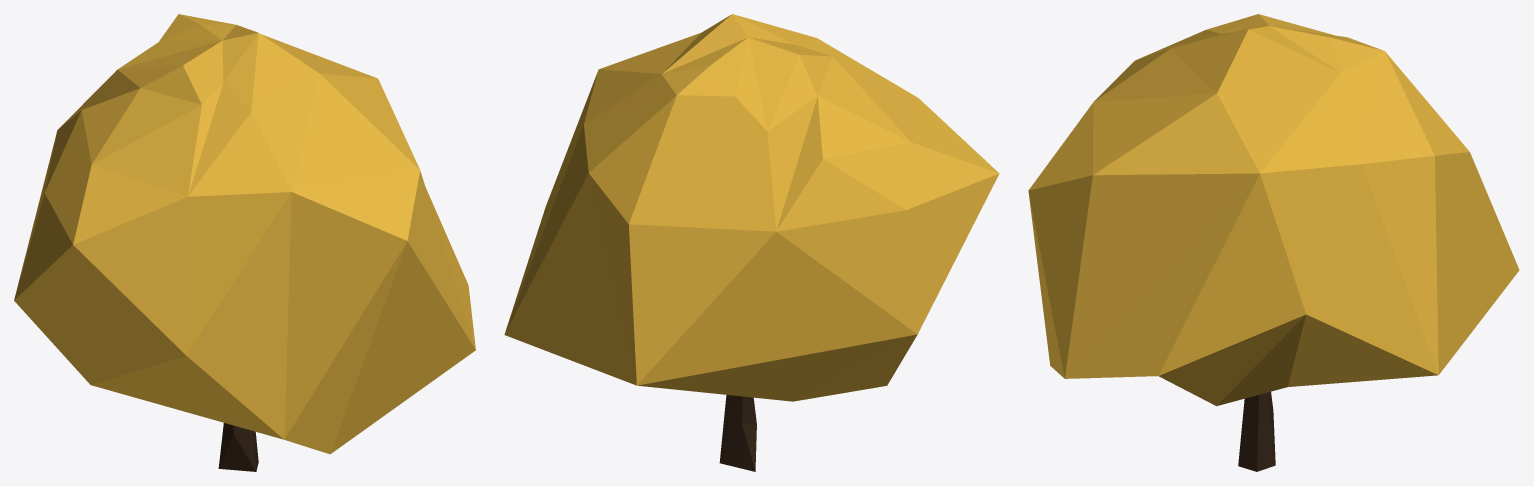
Rendered from tree_three.fbx.
The picture shows the model from 3 angles, left to right: view 1: azimuth 30°, elevation 25°; view 2: azimuth 150°, elevation 25°; view 3: azimuth 270°, elevation 25°; orthographic projection. The views are drawn at different scales.
Visible parts, largest first — view 1: leafs, wood; view 2: leafs, wood; view 3: leafs, wood.
Boxes of the visible parts, x1,y1,x2,y2 form: leafs: (14,14,475,454); wood: (218,423,258,471); leafs: (504,14,999,401); wood: (719,395,756,471); leafs: (1028,14,1519,406); wood: (1238,391,1275,471).
Size of the model in its own units: 565 by 603 by 609.
